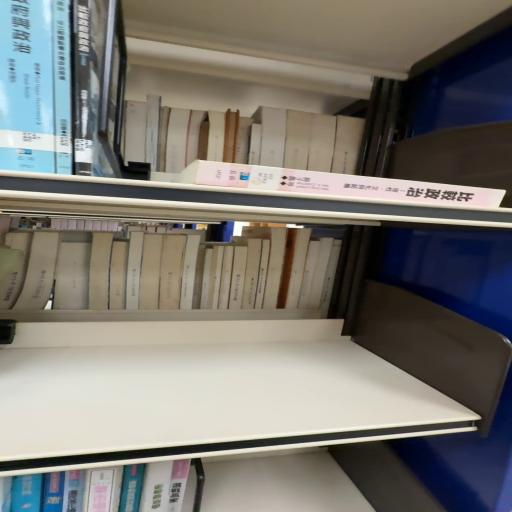flat: (175, 161, 506, 209)
